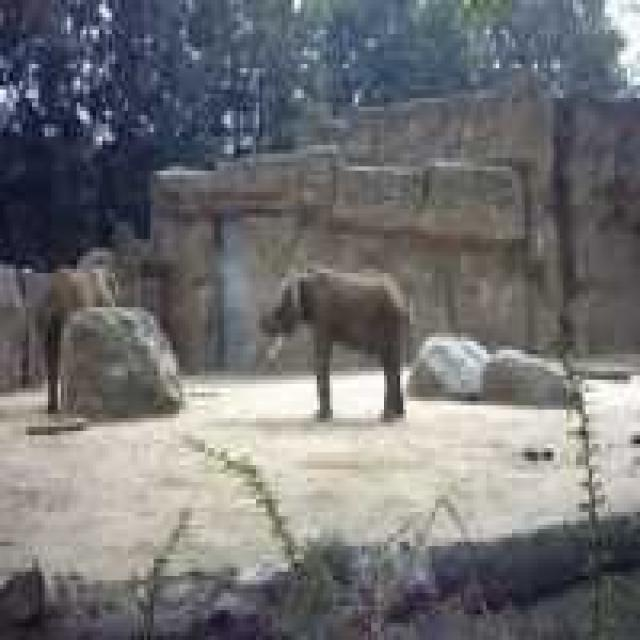Elephant: (256, 264, 410, 422)
